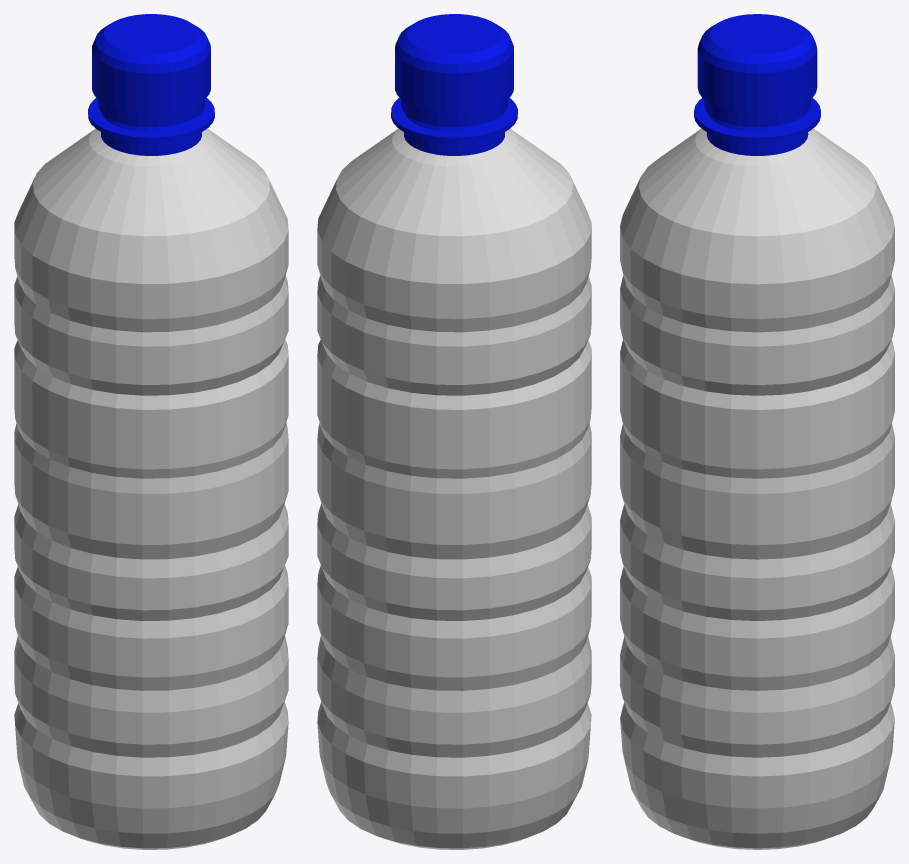
The model's file is bootle.fbx.
The picture shows the model from 3 angles, left to right: view 1: azimuth 30°, elevation 25°; view 2: azimuth 150°, elevation 25°; view 3: azimuth 270°, elevation 25°; orthographic projection.
Visible parts, largest first — view 1: Cylinder.002, Cylinder; view 2: Cylinder.002, Cylinder; view 3: Cylinder.002, Cylinder.
Boxes of the visible parts, x1,y1,x2,y2 form: Cylinder.002: (14,128,288,849); Cylinder: (88,14,214,155); Cylinder.002: (317,128,591,849); Cylinder: (391,14,517,155); Cylinder.002: (620,128,894,849); Cylinder: (694,14,820,155).
Size of the model in its own units: 200 by 619 by 200.
